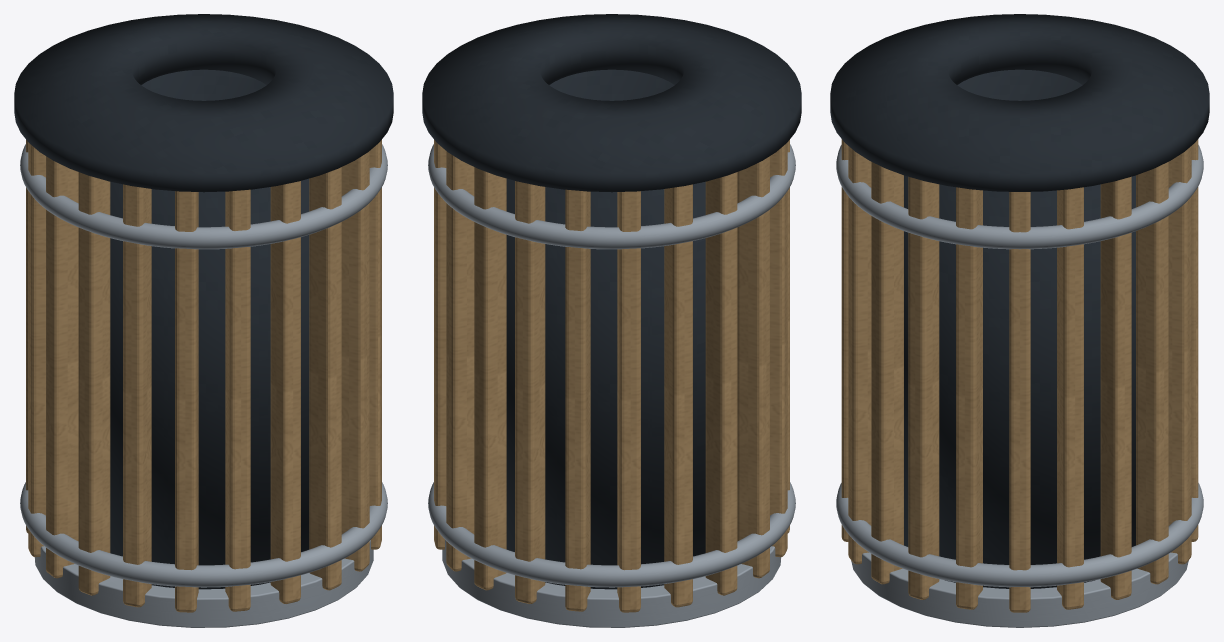
The model's file is slatted-bin.glb.
3 views of the same model, side by side, from view 1: azimuth 30°, elevation 25°; view 2: azimuth 150°, elevation 25°; view 3: azimuth 270°, elevation 25° (orthographic).
Visible parts, largest first — view 1: Waste opening lid, Open hollow bin liner, Timber bin slat.011, Timber bin slat.016, Timber bin slat.010, Timber bin slat.015, Timber bin slat.012, Timber bin slat.017, Timber bin slat.014, Timber bin slat.013, Bin base, Bin binding hoop.001 (+4 smaller); view 2: Waste opening lid, Open hollow bin liner, Timber bin slat.009, Timber bin slat.004, Timber bin slat.010, Timber bin slat.005, Timber bin slat.008, Timber bin slat.003, Timber bin slat.006, Timber bin slat.007, Bin base, Bin binding hoop.001 (+4 smaller); view 3: Waste opening lid, Open hollow bin liner, Timber bin slat.003, Timber bin slat.017, Timber bin slat.002, Timber bin slat.018, Timber bin slat.001, Timber bin slat.019, Bin base, Timber bin slat.004, Timber bin slat.016, Timber bin slat (+4 smaller).
Boxes of the visible parts, x1=… form: Waste opening lid: x1=14, y1=14, x2=393, y2=192; Open hollow bin liner: x1=110, y1=69, x2=309, y2=589; Timber bin slat.011: x1=78, y1=172, x2=110, y2=595; Timber bin slat.016: x1=309, y1=167, x2=341, y2=590; Timber bin slat.010: x1=46, y1=156, x2=78, y2=578; Timber bin slat.015: x1=270, y1=181, x2=300, y2=603; Timber bin slat.012: x1=123, y1=184, x2=151, y2=607; Timber bin slat.017: x1=341, y1=151, x2=369, y2=571; Timber bin slat.014: x1=225, y1=189, x2=250, y2=611; Timber bin slat.013: x1=175, y1=191, x2=198, y2=612; Bin base: x1=34, y1=540, x2=373, y2=627; Bin binding hoop.001: x1=20, y1=144, x2=387, y2=249; Waste opening lid: x1=422, y1=14, x2=801, y2=192; Open hollow bin liner: x1=506, y1=69, x2=705, y2=589; Timber bin slat.009: x1=705, y1=172, x2=737, y2=595; Timber bin slat.004: x1=474, y1=167, x2=506, y2=590; Timber bin slat.010: x1=737, y1=156, x2=769, y2=578; Timber bin slat.005: x1=515, y1=181, x2=545, y2=603; Timber bin slat.008: x1=664, y1=184, x2=692, y2=607; Timber bin slat.003: x1=446, y1=151, x2=474, y2=571; Timber bin slat.006: x1=565, y1=189, x2=590, y2=611; Timber bin slat.007: x1=617, y1=191, x2=640, y2=612; Bin base: x1=442, y1=540, x2=781, y2=627; Bin binding hoop.001: x1=428, y1=144, x2=795, y2=249; Waste opening lid: x1=830, y1=14, x2=1209, y2=191; Open hollow bin liner: x1=904, y1=69, x2=1135, y2=588; Timber bin slat.003: x1=1136, y1=162, x2=1168, y2=584; Timber bin slat.017: x1=871, y1=162, x2=903, y2=584; Timber bin slat.002: x1=1100, y1=176, x2=1131, y2=599; Timber bin slat.018: x1=908, y1=176, x2=939, y2=599; Timber bin slat.001: x1=1057, y1=187, x2=1083, y2=609; Timber bin slat.019: x1=956, y1=187, x2=982, y2=609; Bin base: x1=851, y1=552, x2=1188, y2=627; Timber bin slat.004: x1=1168, y1=146, x2=1191, y2=564; Timber bin slat.016: x1=848, y1=146, x2=871, y2=564; Timber bin slat: x1=1009, y1=192, x2=1030, y2=612.
Bounding box in the file's own units: 0.58 × 0.82 × 0.58.
Materials: 3 (3 with a texture image).
